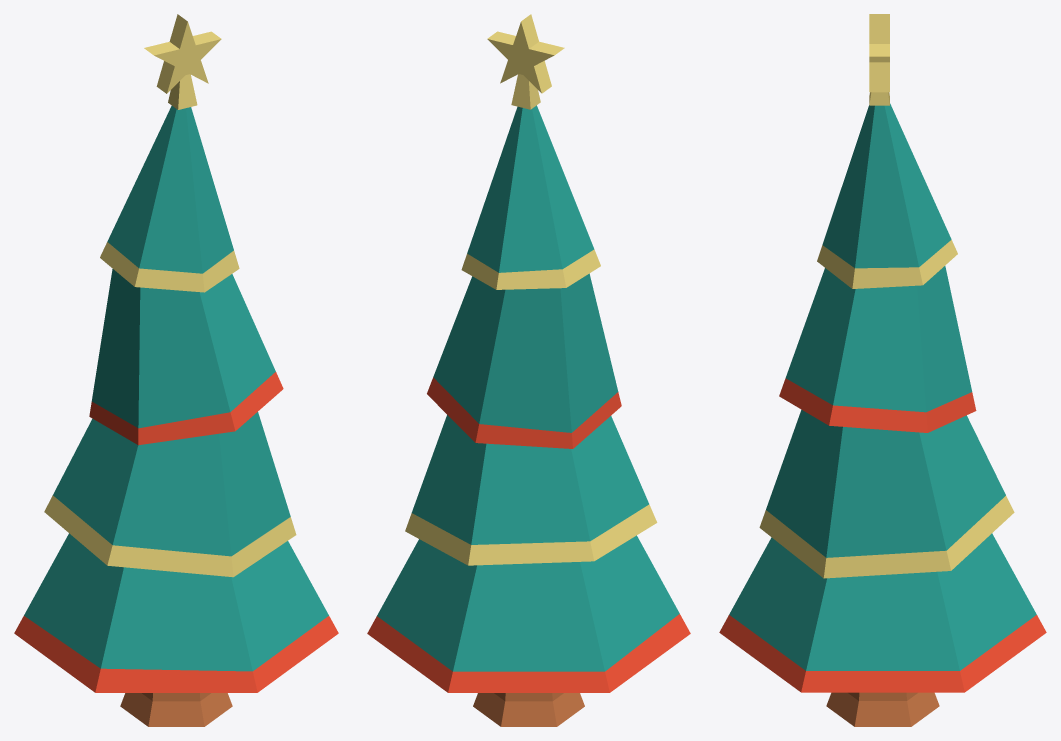
Rendered from treeDecorated.dae.
3 renders of one model, left to right at view 1: azimuth 30°, elevation 25°; view 2: azimuth 150°, elevation 25°; view 3: azimuth 270°, elevation 25°, orthographic.
Parts seen in each view (by area): view 1: treeDecorated, star; view 2: treeDecorated, star; view 3: treeDecorated, star.
Part boxes in pixels (x1,y1,x2,y2): treeDecorated: (14, 106, 338, 726); star: (144, 14, 221, 109); treeDecorated: (367, 105, 690, 726); star: (487, 14, 564, 109); treeDecorated: (719, 103, 1046, 726); star: (869, 14, 889, 105).
Bounding box in the file's own units: 0.651 × 1.76 × 0.7517.
